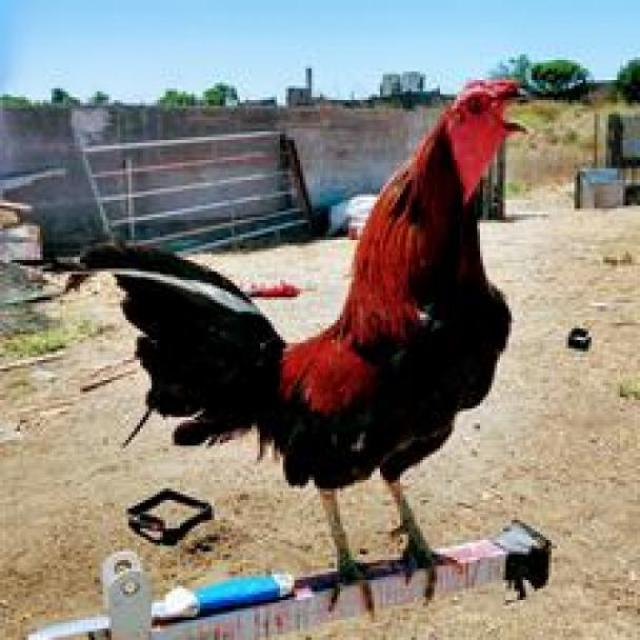Chicken: (81, 81, 571, 568)
